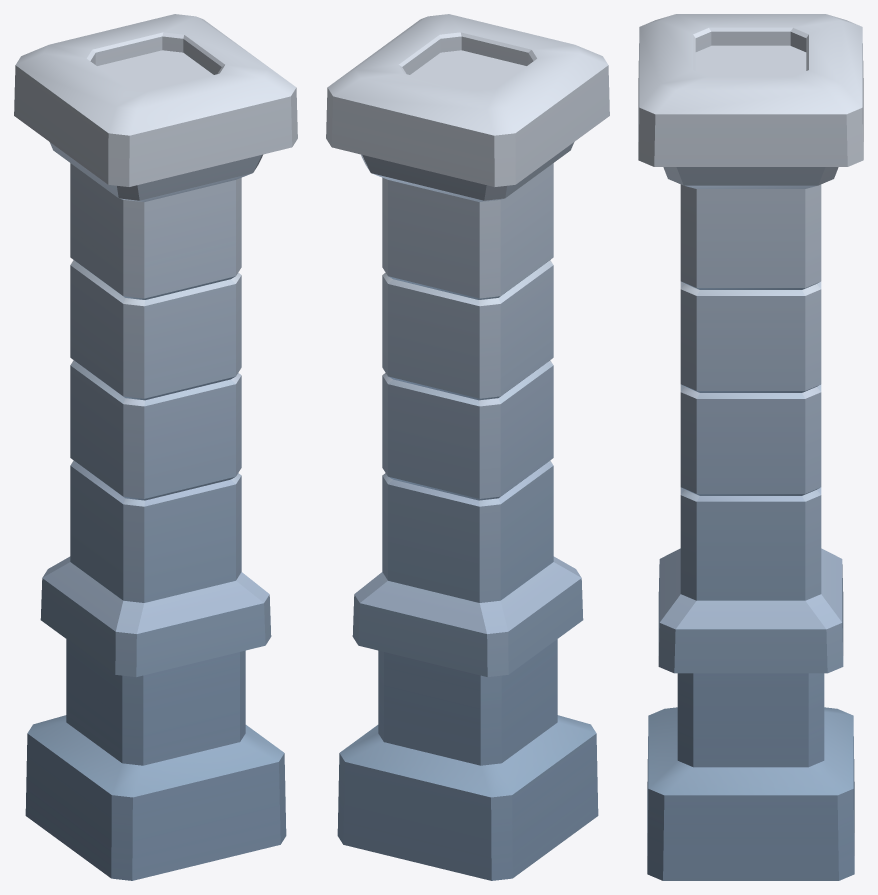
The model's file is Pillar 01.fbx.
3 views of the same model, side by side, from view 1: azimuth 30°, elevation 25°; view 2: azimuth 150°, elevation 25°; view 3: azimuth 270°, elevation 25° (orthographic). The views are drawn at different scales.
Parts seen in each view (by area): view 1: Pillar 01.001; view 2: Pillar 01.001; view 3: Pillar 01.001.
Boxes of the visible parts, x1,y1,x2,y2 form: Pillar 01.001: (14, 14, 297, 880); Pillar 01.001: (326, 14, 609, 880); Pillar 01.001: (638, 14, 863, 880).
Size of the model in its own units: 77.93 by 300 by 77.95.
